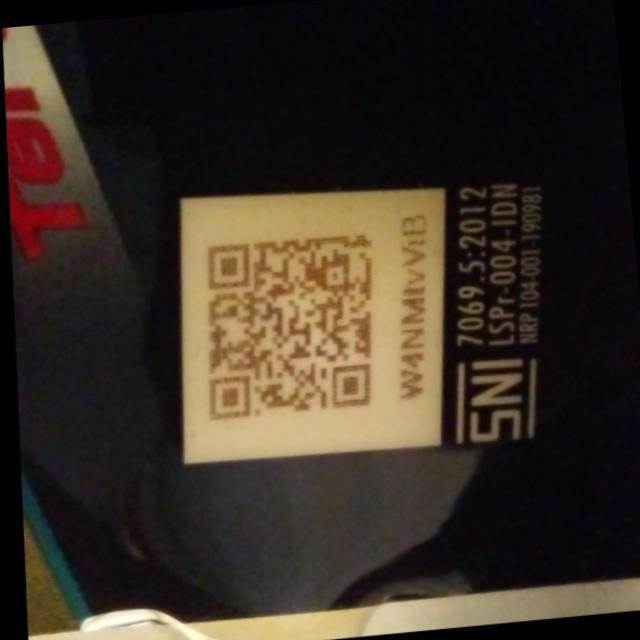QRCode: (181, 220, 395, 431)
